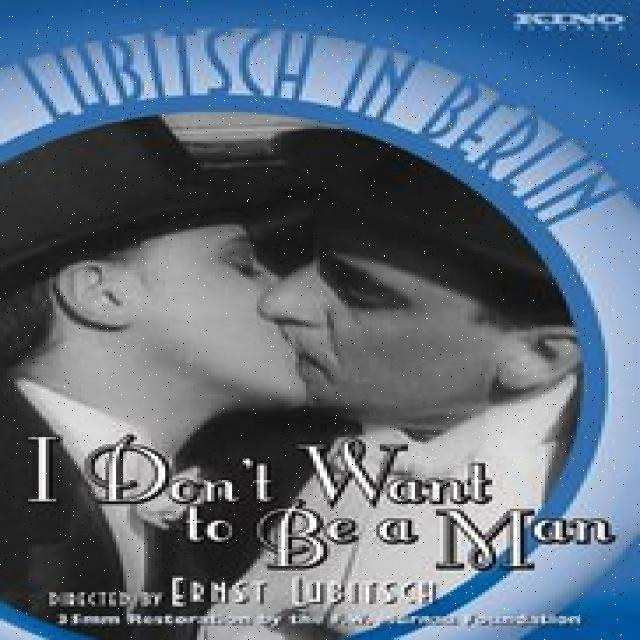movie-judul: (21, 429, 625, 576)
picture: (7, 136, 588, 428)
